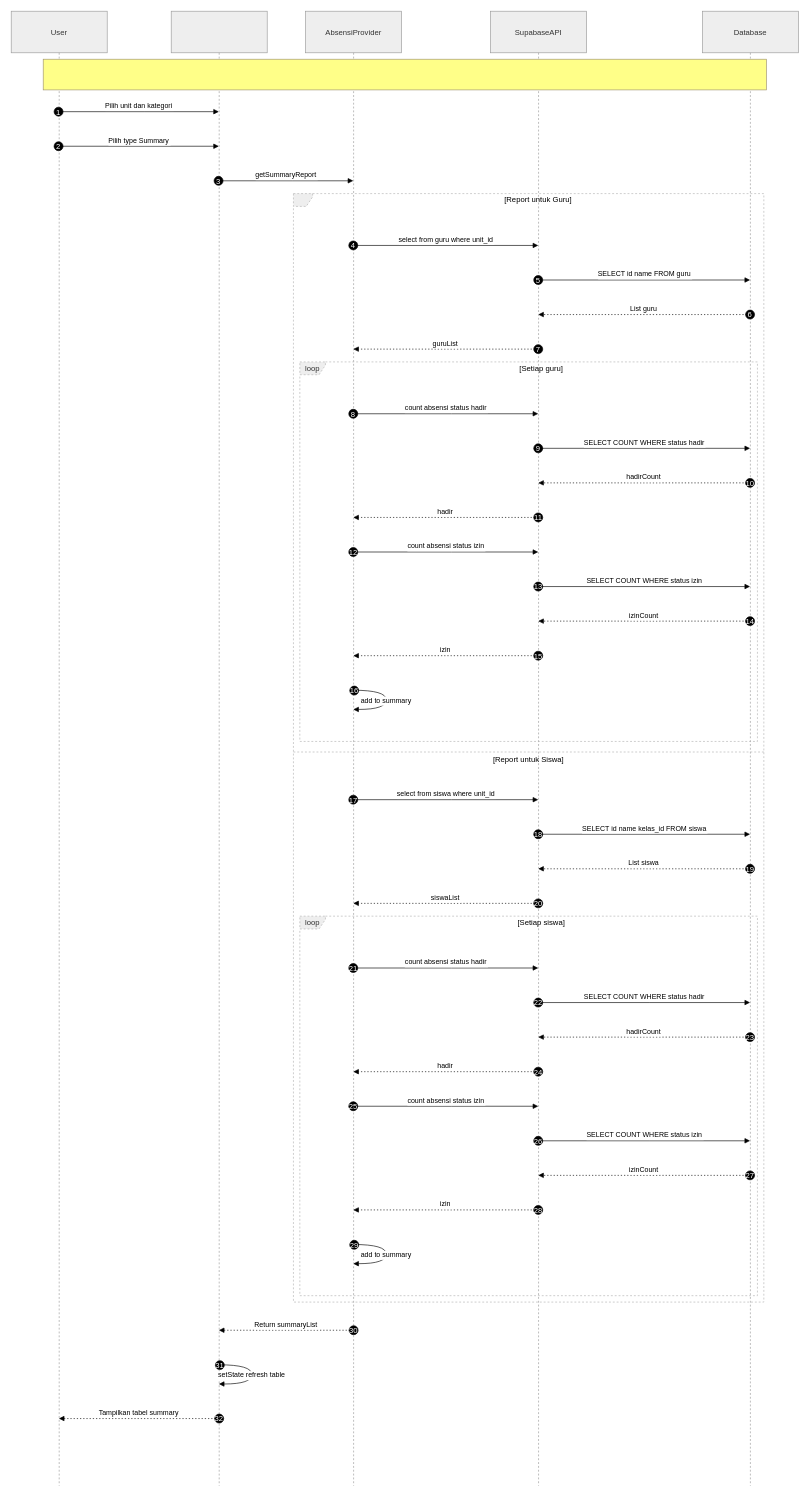
Some shapes in this 810 by 1497 pixel diagram are drawn without their labels. Each missing label, with the box of its shape:
alt: (293, 193, 764, 1302)
LaporanScreen: (171, 11, 267, 1486)
LOAD LAPORAN SUMMARY: (43, 59, 766, 90)
